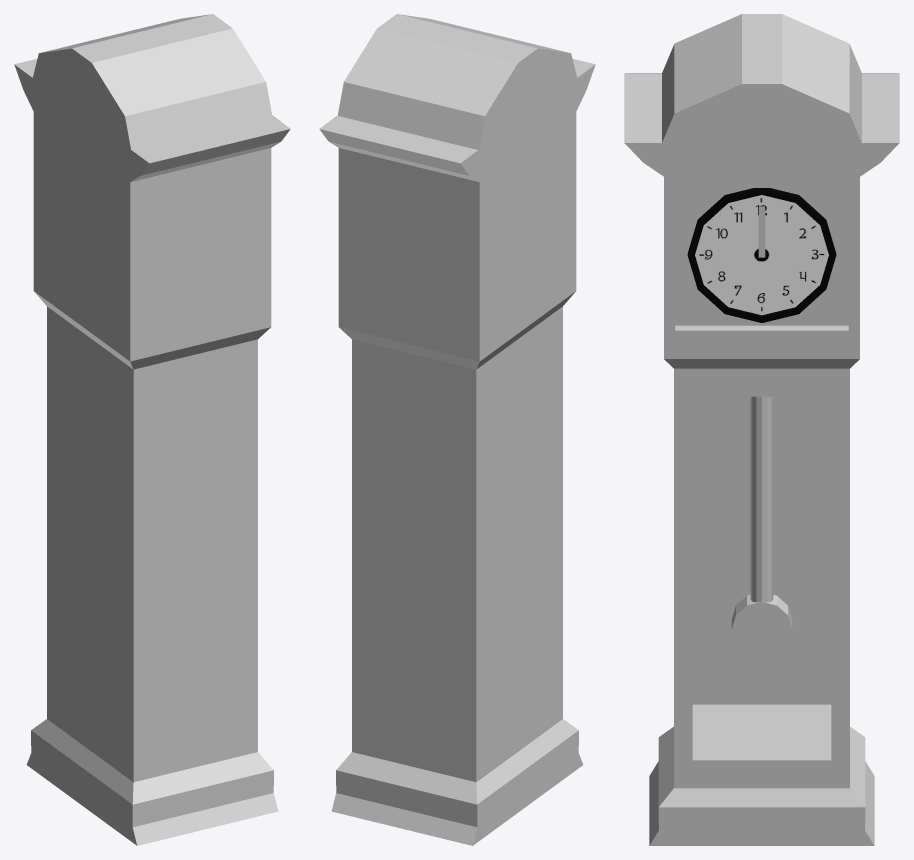
Rendered from Clocks.fbx.
The picture shows the model from 3 angles, left to right: view 1: azimuth 30°, elevation 25°; view 2: azimuth 150°, elevation 25°; view 3: azimuth 270°, elevation 25°; orthographic projection.
Parts seen in each view (by area): view 1: Cube; view 2: Cube; view 3: Cube, Cylinder, Cylinder.001.
Part boxes in pixels (x1,y1,x2,y2): Cube: [14, 14, 290, 845]; Cube: [319, 14, 595, 845]; Cube: [624, 14, 899, 845]; Cylinder: [687, 188, 836, 322]; Cylinder.001: [731, 396, 792, 656].
Size of the model in its own units: 98.15 by 498 by 163.
